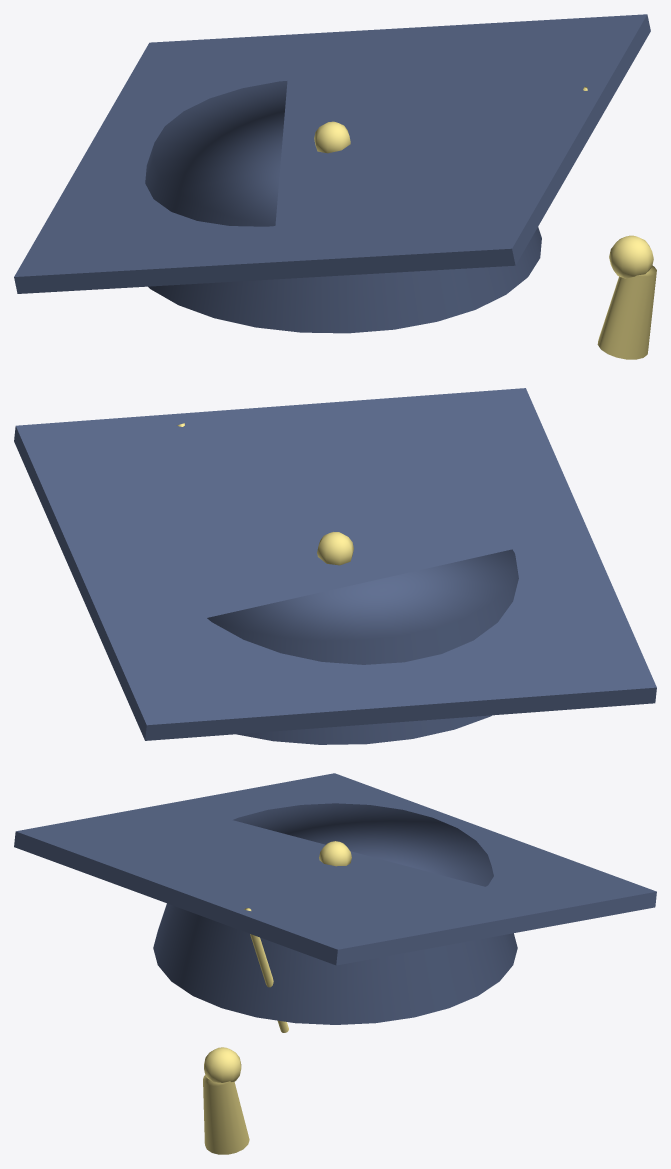
Rendered from graduate_cap.glb.
3 renders of one model, top to bottom at view 1: azimuth 30°, elevation 25°; view 2: azimuth 150°, elevation 25°; view 3: azimuth 270°, elevation 25°, orthographic. The views are drawn at different scales.
Bounding box in the file's own units: 1.47 × 0.5943 × 1.48.
